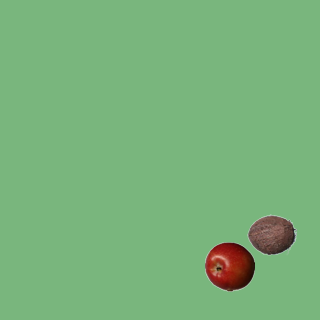Apple Braeburn: (204, 241, 254, 291)
Cocos: (246, 209, 296, 259)
